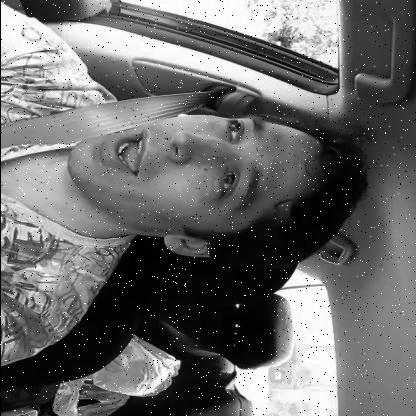seatbelt: (1, 86, 375, 282)
